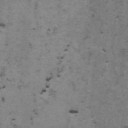oxide scale of temperature system: (0, 71, 37, 121), (40, 73, 62, 94), (60, 44, 70, 60), (68, 109, 78, 114), (0, 22, 6, 29), (100, 30, 104, 34), (102, 48, 106, 52), (32, 27, 36, 30), (124, 125, 128, 128)
